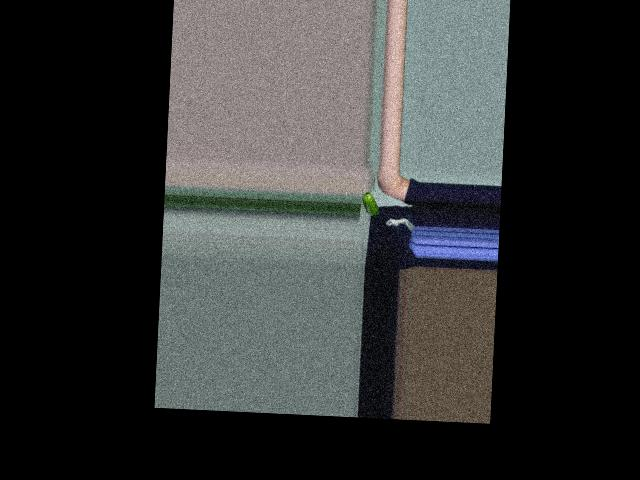cucumber: (360, 191, 379, 216)
